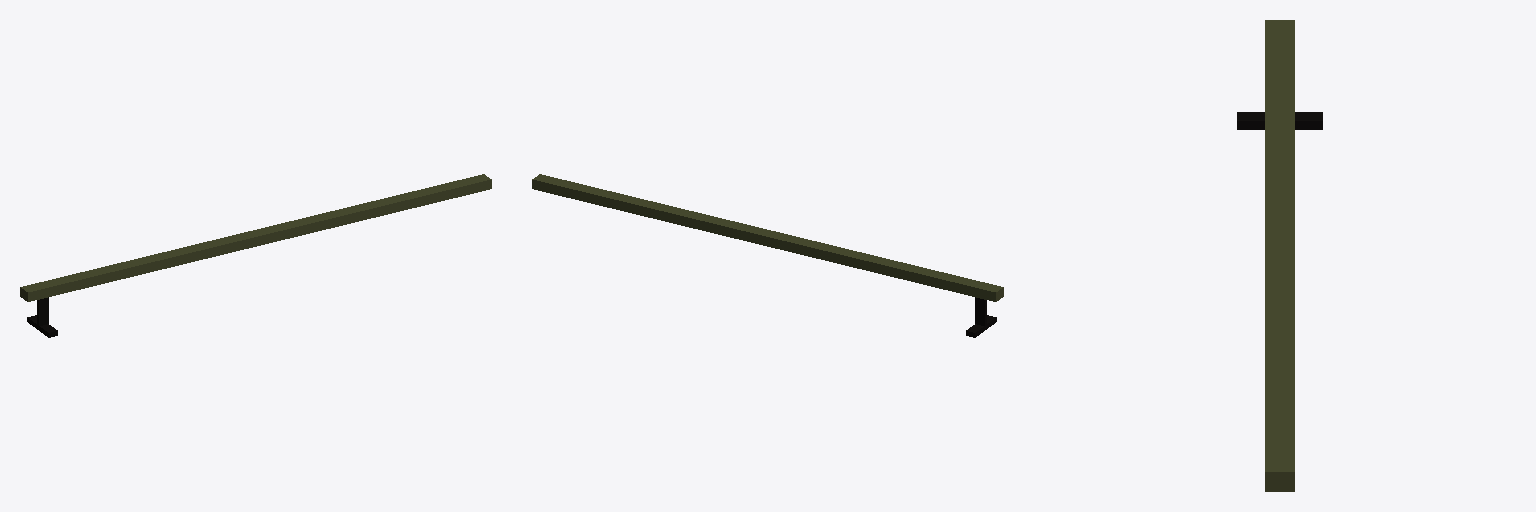
URDF robot description (beam):
<?xml version="1.0" ?>
<robot name="beam">
  <link name="base_link" />

    <link name="foot2">
    <visual>
      <geometry>
        <mesh filename="package://mc_env_description/meshes/beam/foot2.stl" />
      </geometry>
      <material name="Foot">
        <color rgba="0.08352795988321304 0.07589144259691238 0.07153297960758209 1" />
      </material>
    </visual>

  </link>
  <joint name="foot2" type="fixed">
    <parent link="base_link" />
    <child link="foot2" />
    <origin rpy="0.0 0.0 0.0" xyz="2.299999952316284 0.0 0.02500000037252903" />
  </joint>

  <link name="foot1">
    <visual>
      <geometry>
        <mesh filename="package://mc_env_description/meshes/beam/foot1.stl" />
      </geometry>
      <material name="Foot">
        <color rgba="0.08352795988321304 0.07589144259691238 0.07153297960758209 1" />
      </material>
    </visual>

  </link>
  <joint name="foot1" type="fixed">
    <parent link="base_link" />
    <child link="foot1" />
    <origin rpy="0.0 0.0 0.0" xyz="-2.299999952316284 0.0 0.02500000037252903" />
  </joint>

  <link name="beam">
    <visual>
      <geometry>
        <mesh filename="package://mc_env_description/meshes/beam/beam.stl" />
      </geometry>
      <material name="Beam">
        <color rgba="0.3084837794303894 0.3185311257839203 0.2064049392938614 1" />
      </material>
    </visual>

  </link>
  <joint name="beam" type="fixed">
    <parent link="base_link" />
    <child link="beam" />
    <origin rpy="0.0 0.0 0.0" xyz="0.0 0.0 0.4000000059604645" />
  </joint>

</robot>

--- What the picture shows (computed from the rendered views, not written in the file) ---
3 views of the same robot in one strip: view 1: azimuth 30°, elevation 25°; view 2: azimuth 150°, elevation 25°; view 3: azimuth 270°, elevation 25° (orthographic).
Robot: beam — 4 links, 3 joints (3 fixed); root link base_link; default pose: all joints at 0.
Visible links, largest first — view 1: beam, foot1; view 2: beam, foot1; view 3: beam, foot1.
Link boxes in pixels (left/top/right/bottom): beam: left=20, top=174, right=491, bottom=301; foot1: left=27, top=297, right=57, bottom=337; beam: left=532, top=174, right=1003, bottom=301; foot1: left=966, top=297, right=996, bottom=337; beam: left=1265, top=20, right=1294, bottom=491; foot1: left=1237, top=112, right=1322, bottom=129.
Size in the robot's own frame: 5 by 0.4 by 0.45 metres.
Meshes: 3 distinct files referenced, 2 mesh visuals loaded (2 binary STL); not drawn: 1 (reference not matched to a file when rendering).